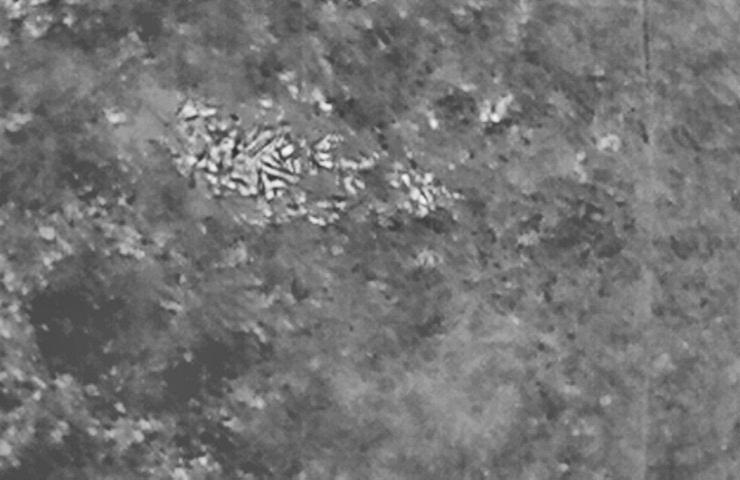landmines: (181, 110, 310, 222)
